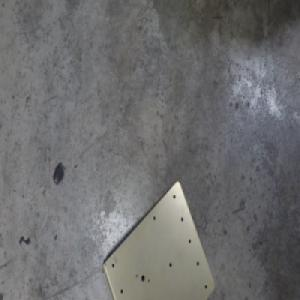MetalSheet: (100, 179, 216, 300)
